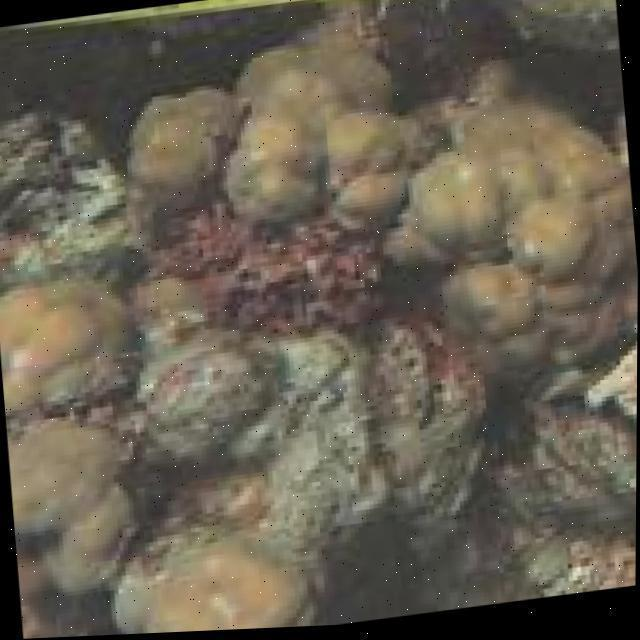Healthy Coral: (125, 34, 640, 383), (93, 509, 325, 640), (4, 418, 135, 601), (1, 268, 128, 411)
